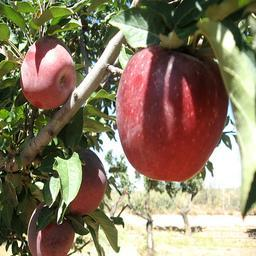apple: (119, 49, 230, 187), (19, 34, 76, 110), (63, 147, 107, 216)
